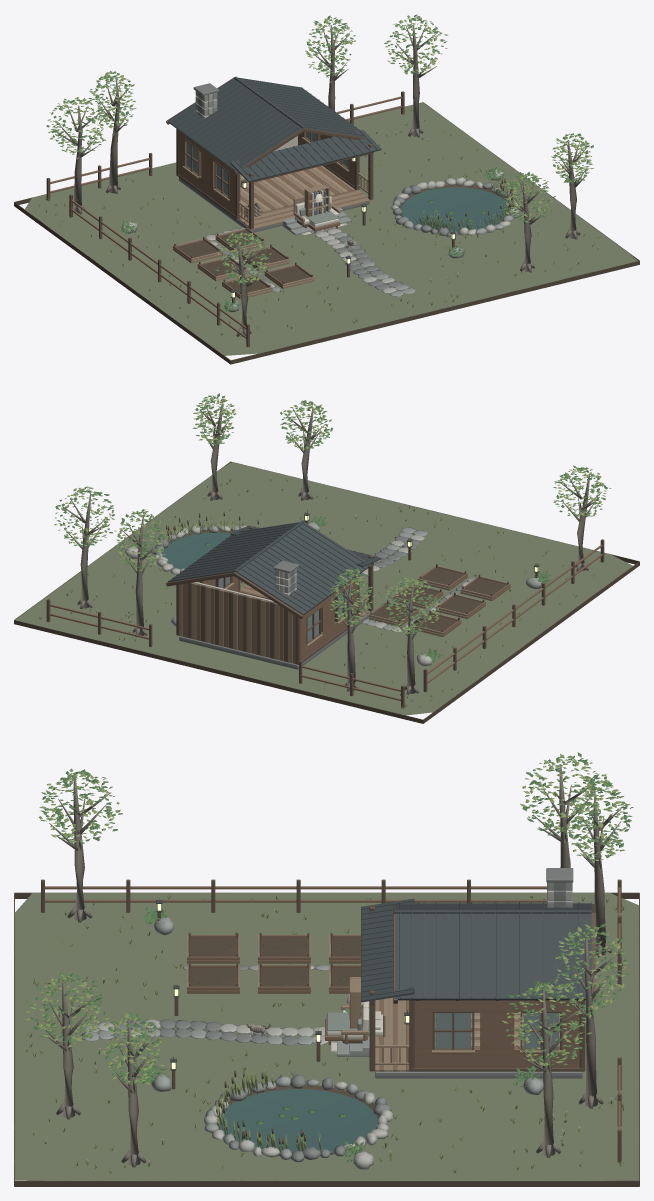
Rendered from retreat-v4.glb.
3 views of the same model, one above another, from view 1: azimuth 30°, elevation 25°; view 2: azimuth 150°, elevation 25°; view 3: azimuth 270°, elevation 25° (orthographic). The views are drawn at different scales.
Parts seen in each view (by area): view 1: environment_root__ground, cabin_root__Weathered_zinc_roof, environment_root__bark, environment_root__leaf, environment_root__leaf_light, cabin_root__timber, pond_root__Deep_still_water, environment_root__soil, cabin_root__timber_dark, cabin_root__timber_light, environment_root__timber, cabin_root__endgrain (+10 smaller); view 2: environment_root__ground, cabin_root__Weathered_zinc_roof, environment_root__bark, environment_root__leaf, cabin_root__timber_dark, environment_root__leaf_light, cabin_root__timber, environment_root__soil, cabin_root__timber_light, environment_root__timber, pond_root__Deep_still_water, environment_root__timber_dark (+6 smaller); view 3: environment_root__ground, cabin_root__Weathered_zinc_roof, environment_root__bark, environment_root__leaf, environment_root__leaf_light, cabin_root__timber, pond_root__Deep_still_water, environment_root__soil, environment_root__timber, cabin_root__timber_dark, cabin_root__stone_dark, environment_root__timber_dark (+16 smaller).
Part boxes in pixels (x1=…): environment_root__ground: x1=24, y1=102, x2=637, y2=355; cabin_root__Weathered_zinc_roof: x1=168, y1=76, x2=381, y2=182; environment_root__bark: x1=55, y1=24, x2=587, y2=336; environment_root__leaf: x1=46, y1=14, x2=593, y2=312; environment_root__leaf_light: x1=47, y1=15, x2=593, y2=282; cabin_root__timber: x1=178, y1=130, x2=367, y2=226; pond_root__Deep_still_water: x1=401, y1=187, x2=508, y2=233; environment_root__soil: x1=14, y1=102, x2=639, y2=364; cabin_root__timber_dark: x1=166, y1=77, x2=373, y2=228; cabin_root__timber_light: x1=238, y1=166, x2=371, y2=229; environment_root__timber: x1=50, y1=96, x2=401, y2=338; cabin_root__endgrain: x1=182, y1=137, x2=348, y2=217; environment_root__ground: x1=15, y1=462, x2=632, y2=715; cabin_root__Weathered_zinc_roof: x1=168, y1=520, x2=381, y2=615; environment_root__bark: x1=62, y1=401, x2=602, y2=694; environment_root__leaf: x1=55, y1=393, x2=607, y2=662; cabin_root__timber_dark: x1=166, y1=522, x2=373, y2=664; environment_root__leaf_light: x1=54, y1=395, x2=611, y2=633; cabin_root__timber: x1=182, y1=576, x2=368, y2=663; environment_root__soil: x1=14, y1=461, x2=639, y2=723; cabin_root__timber_light: x1=179, y1=582, x2=370, y2=663; environment_root__timber: x1=49, y1=544, x2=602, y2=700; pond_root__Deep_still_water: x1=162, y1=532, x2=231, y2=569; environment_root__timber_dark: x1=46, y1=521, x2=604, y2=708; environment_root__ground: x1=14, y1=893, x2=639, y2=1180; cabin_root__Weathered_zinc_roof: x1=361, y1=898, x2=591, y2=1002; environment_root__bark: x1=42, y1=764, x2=623, y2=1167; environment_root__leaf: x1=25, y1=752, x2=633, y2=1161; environment_root__leaf_light: x1=24, y1=754, x2=630, y2=1084; cabin_root__timber: x1=379, y1=998, x2=579, y2=1071; pond_root__Deep_still_water: x1=219, y1=1089, x2=377, y2=1153; environment_root__soil: x1=14, y1=892, x2=639, y2=1186; environment_root__timber: x1=45, y1=886, x2=620, y2=1129; cabin_root__timber_dark: x1=369, y1=904, x2=595, y2=1071; cabin_root__stone_dark: x1=375, y1=868, x2=582, y2=1078; environment_root__timber_dark: x1=41, y1=879, x2=621, y2=1162.
Size of the model in its own units: 24.04 by 7.27 by 22.04.
